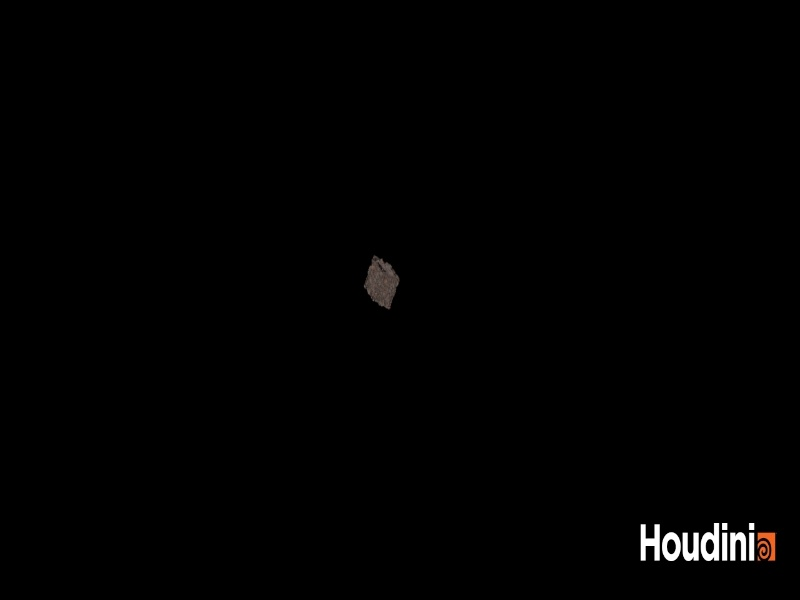waste: (360, 247, 403, 321)
